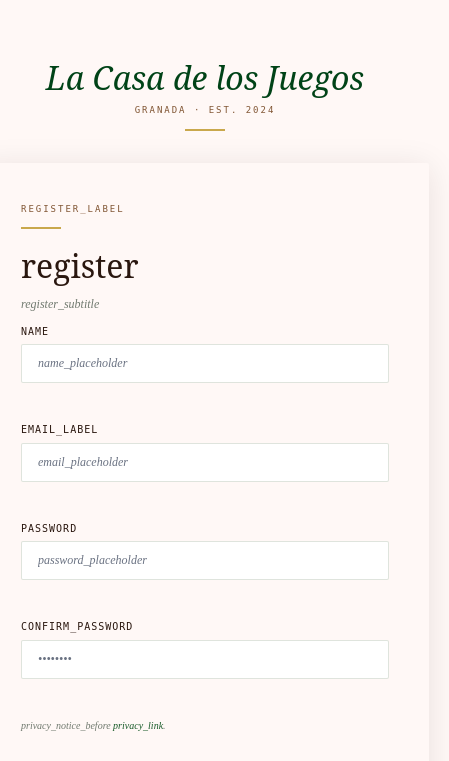
components/auth/RegisterForm.tsx › muestra error si la contraseña tiene menos de 8 caracteres
Type "Ana" into the field labelled "name" at (205, 364), box [21, 344, 389, 383]
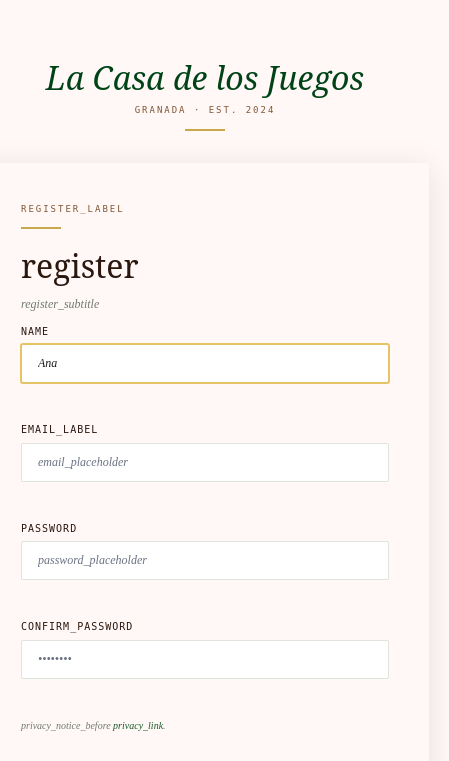
Type "ana@test.com" into the field labelled "email_label" at (205, 462), box [21, 443, 389, 482]
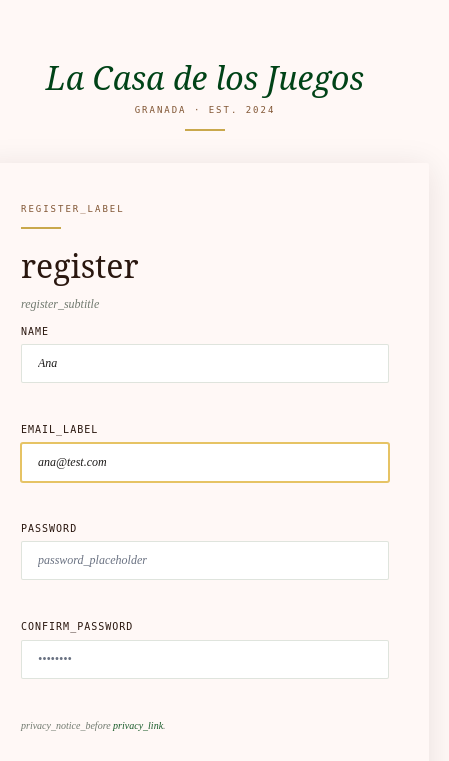
Type "corta" into the password field labelled "password" at (205, 561), box [21, 541, 389, 580]
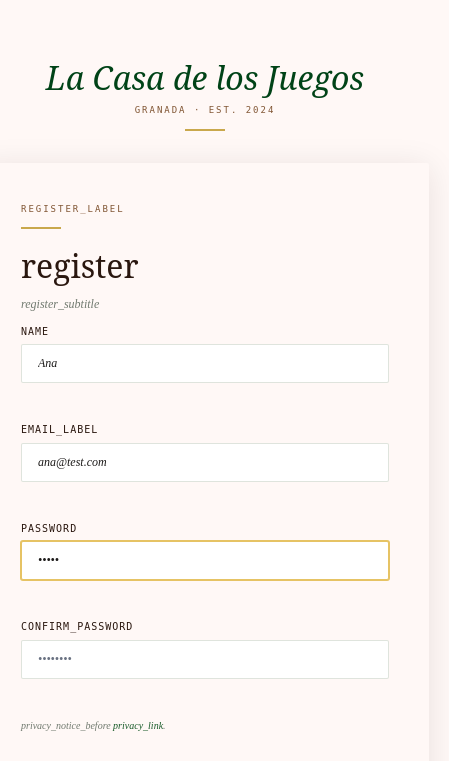
Type "corta" into the password field labelled "confirm_password" at (205, 659), box [21, 640, 389, 679]
(page scrolled)
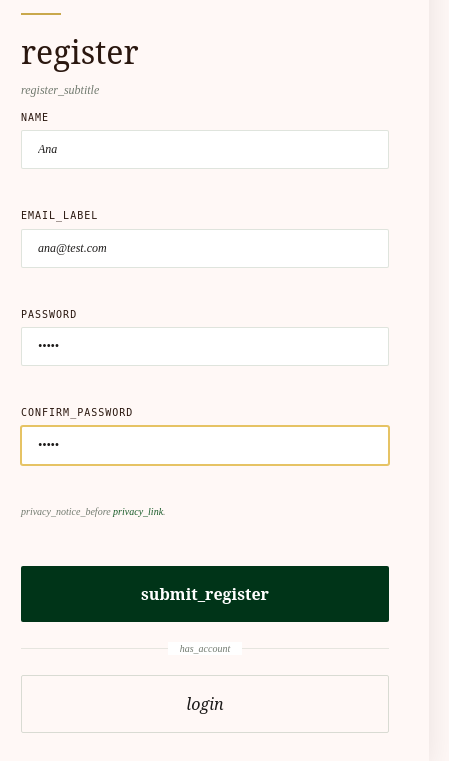
Click the button "submit_register" at (205, 594), box [21, 566, 389, 622]
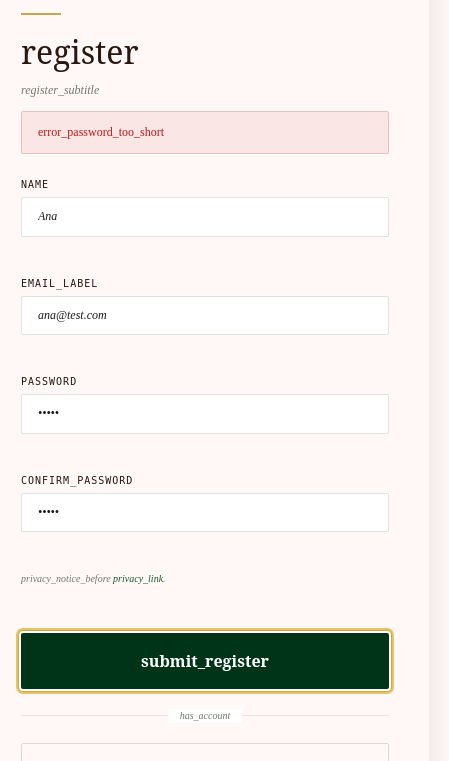
Check: the text "error_password_too_short" is shown, box [21, 111, 389, 154]
